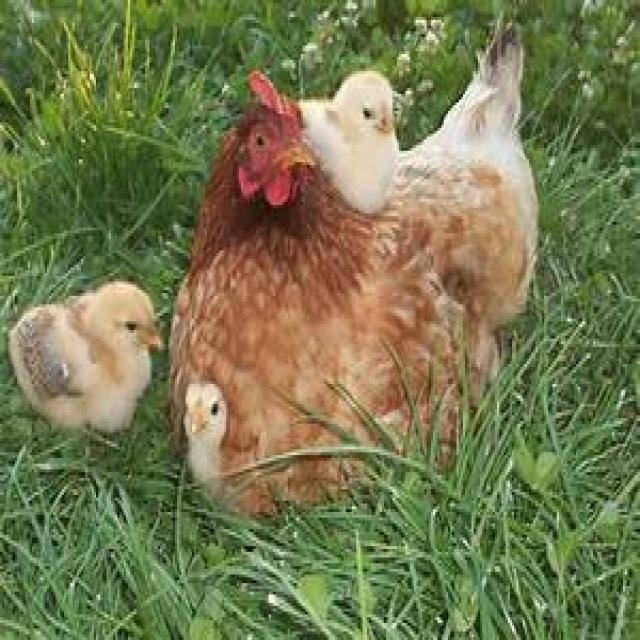hen: (171, 32, 538, 512)
